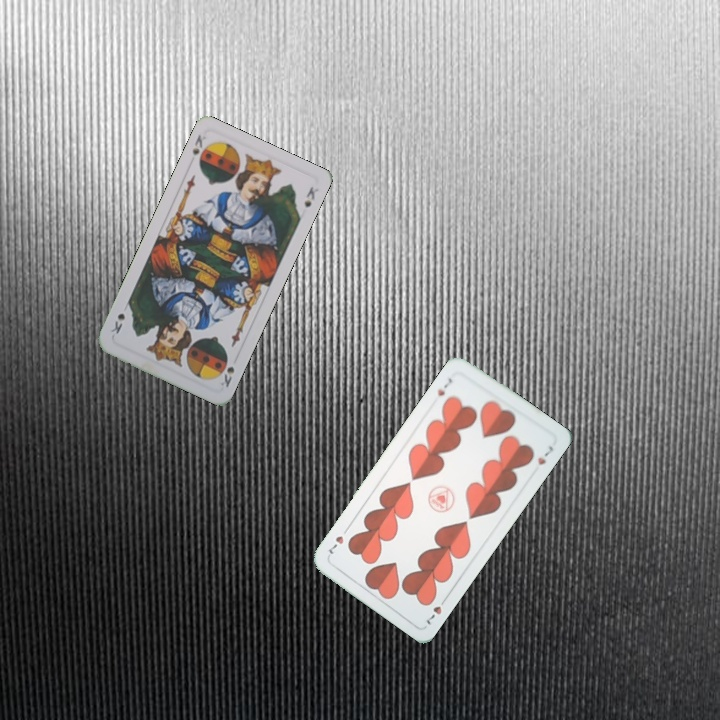H7: (421, 593, 450, 628), (433, 374, 455, 399)
SK: (188, 130, 211, 168), (216, 362, 237, 390)
